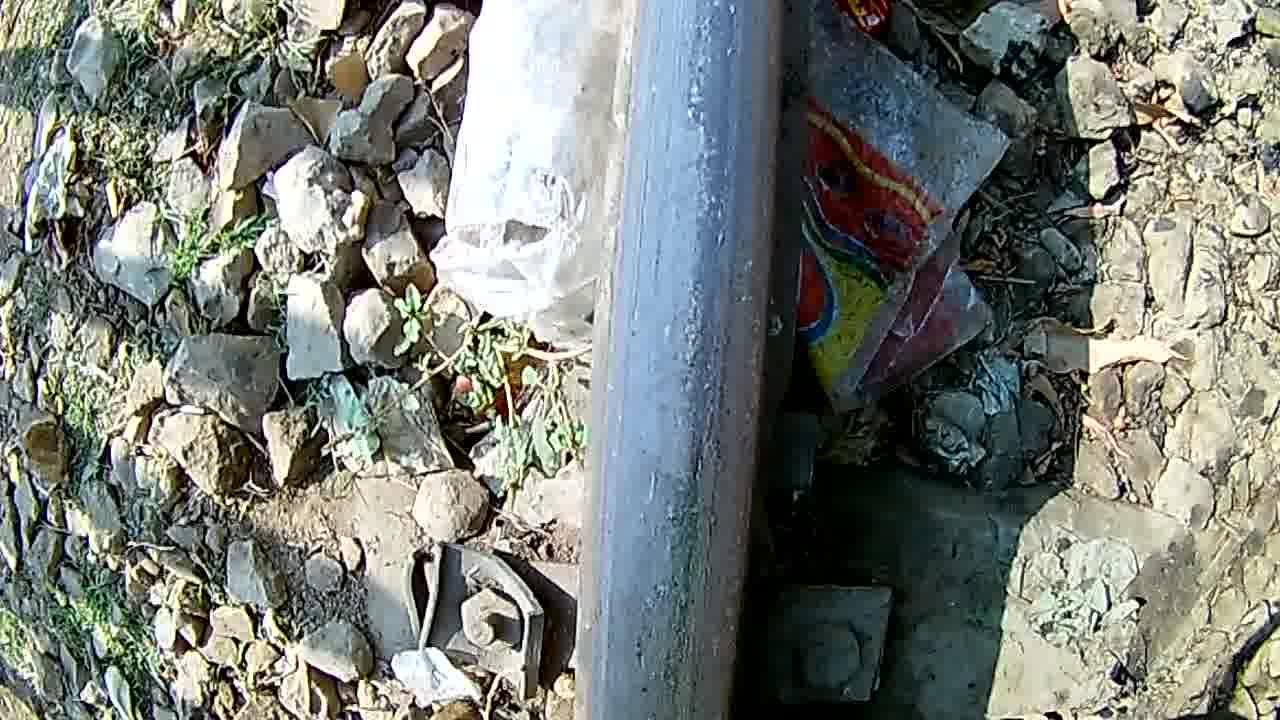clip_missing: (611, 0, 762, 720)
